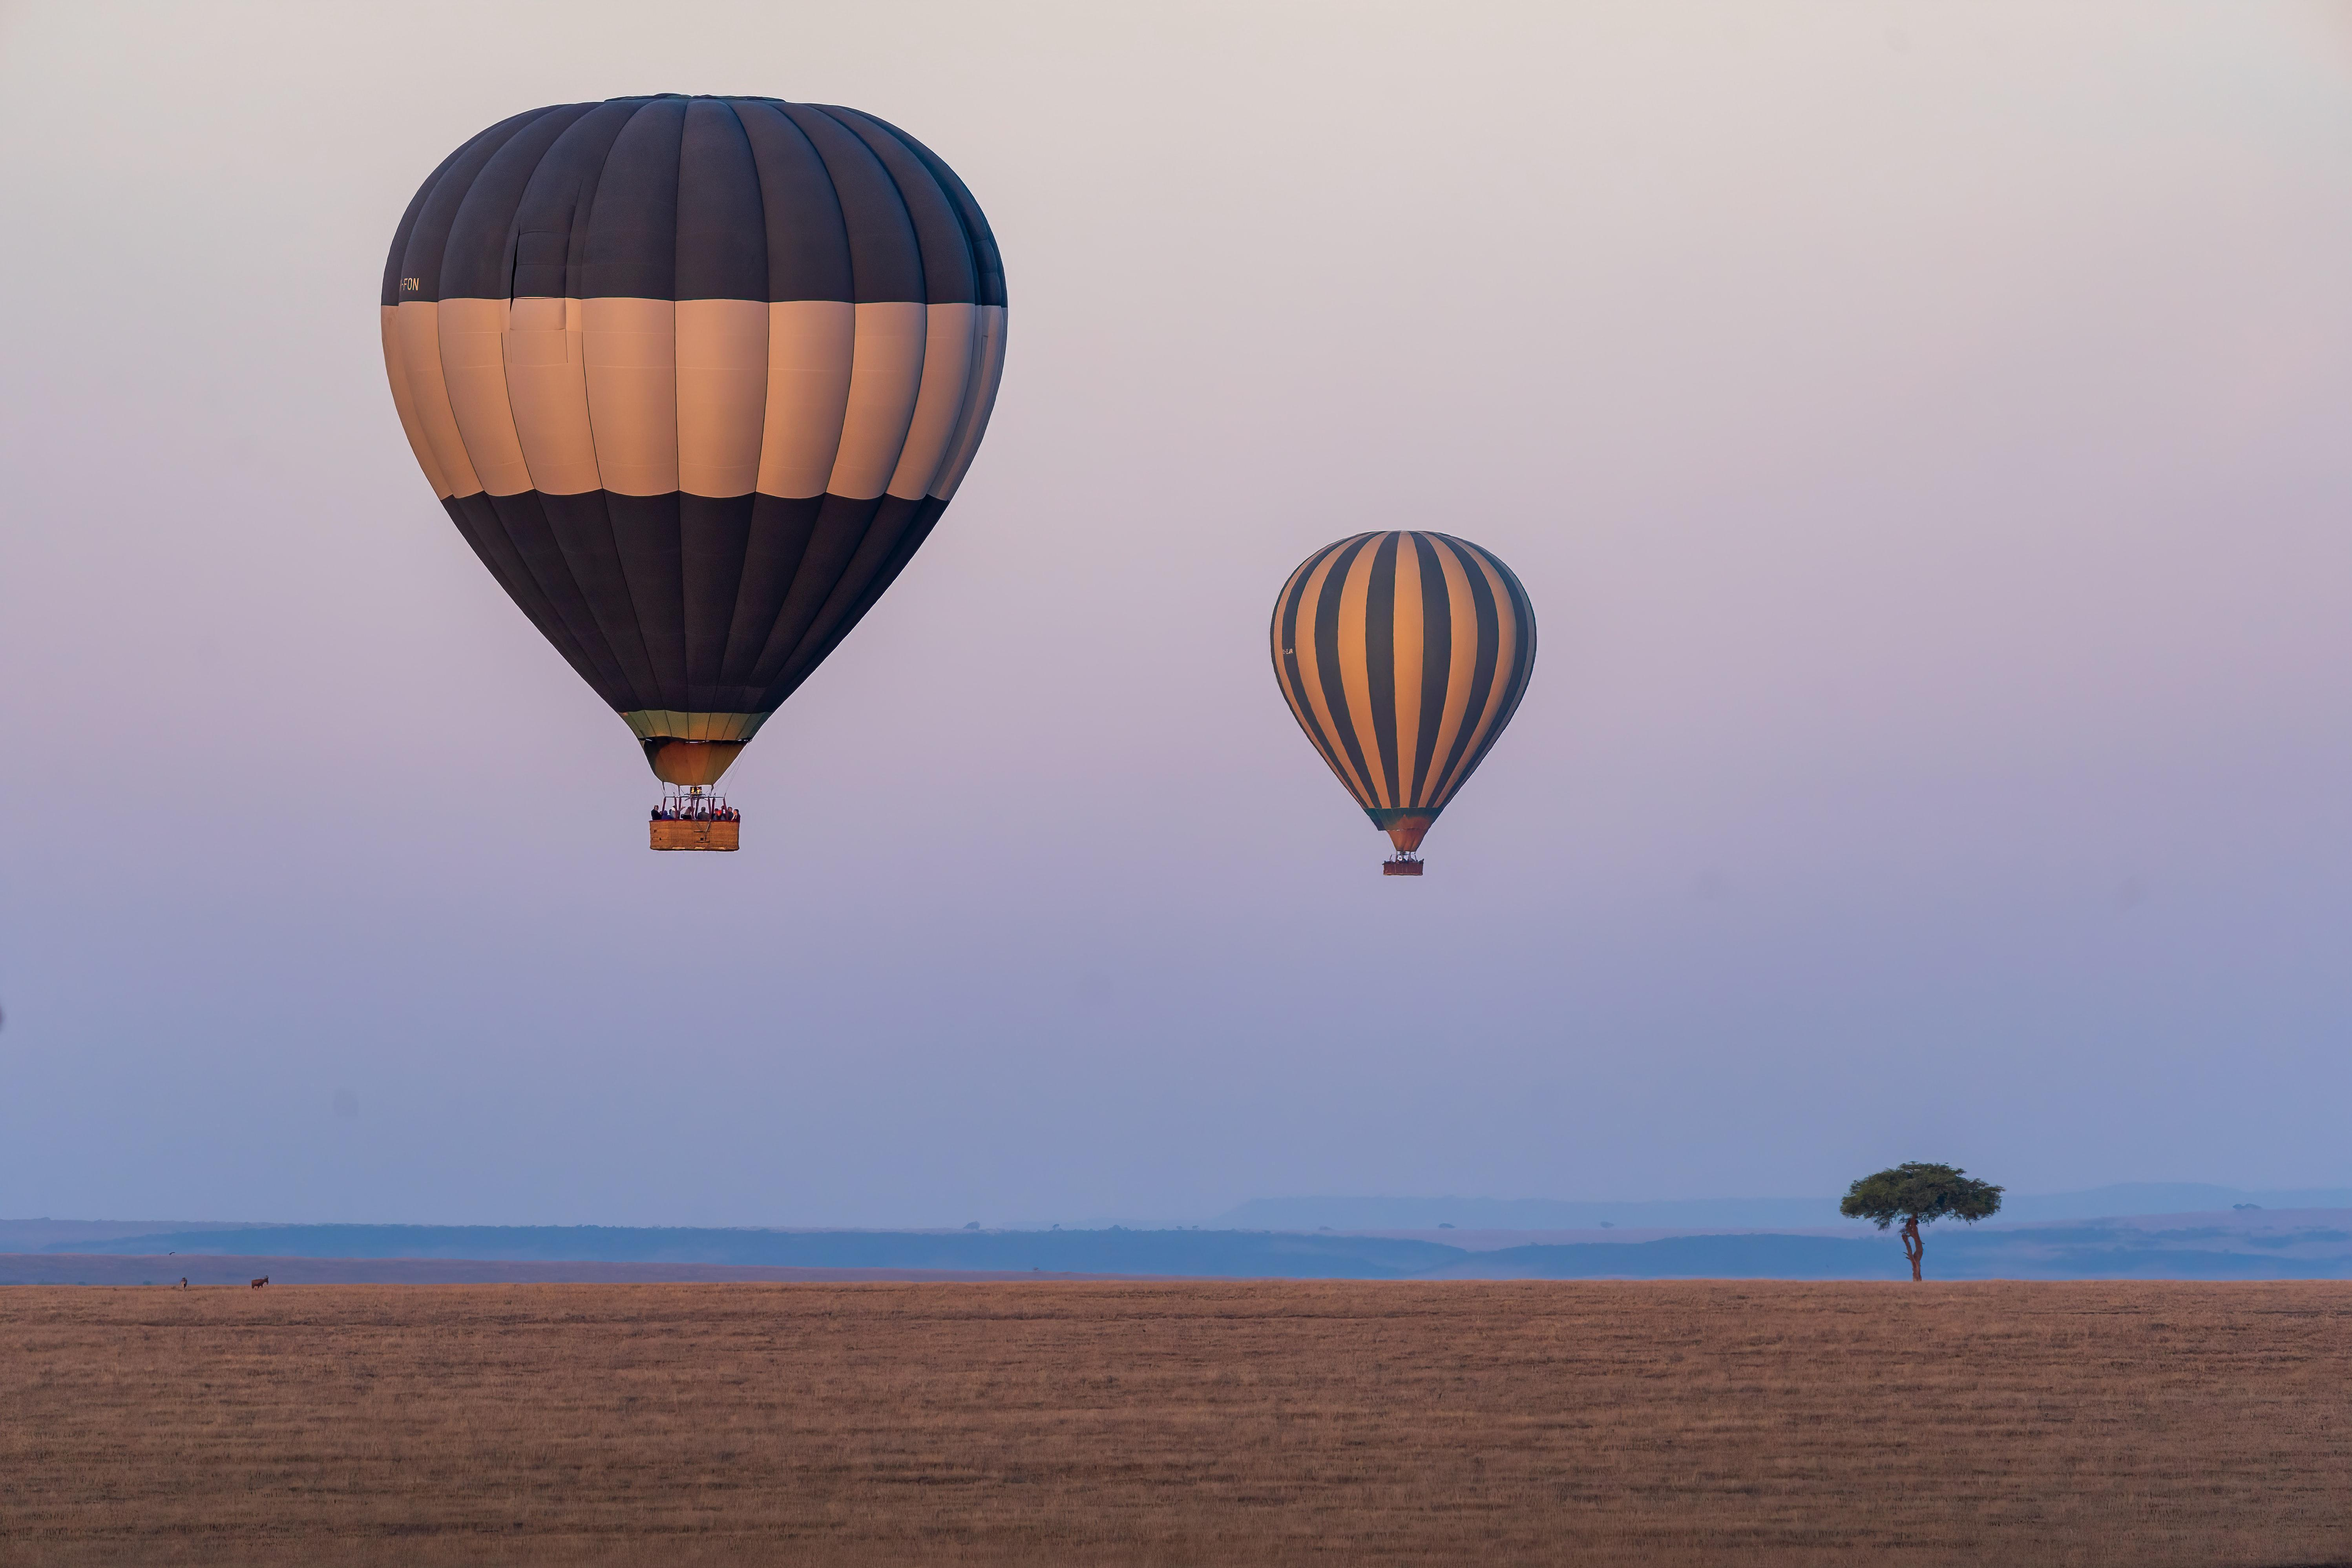hot air ballon: (371, 79, 1015, 857), (1258, 511, 1559, 899)
